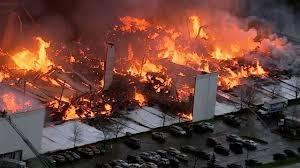fire: (104, 9, 284, 115)
